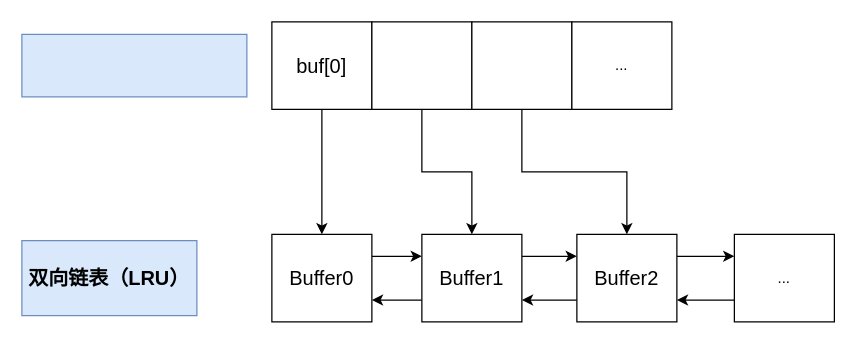
The diagram is 856 pixels wide and 344 high, and some of its shapes have lost their labels. Each missing label, with the centre of its shape:
buf[1]: point (421, 65)
buf[2]: point (521, 65)
静态数组buf[NBUF]: point (134, 65)
